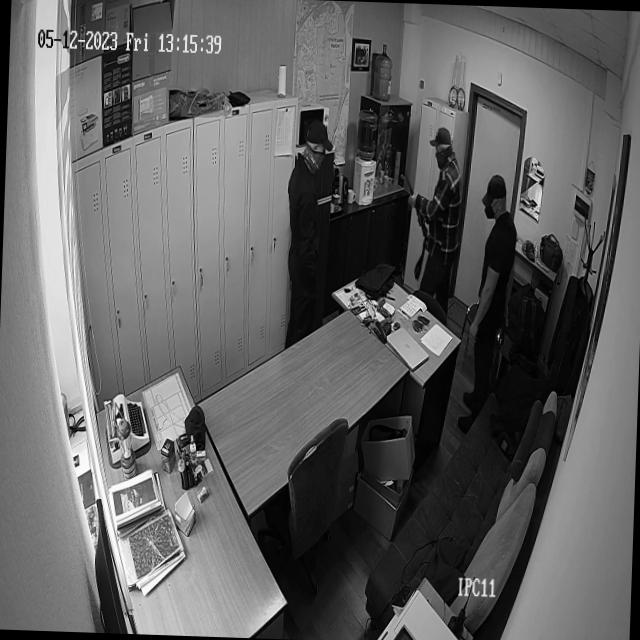gun: (402, 172, 432, 284), (495, 310, 510, 356)
person: (284, 119, 330, 343)
person with a gun: (461, 175, 519, 438), (402, 126, 462, 323)
